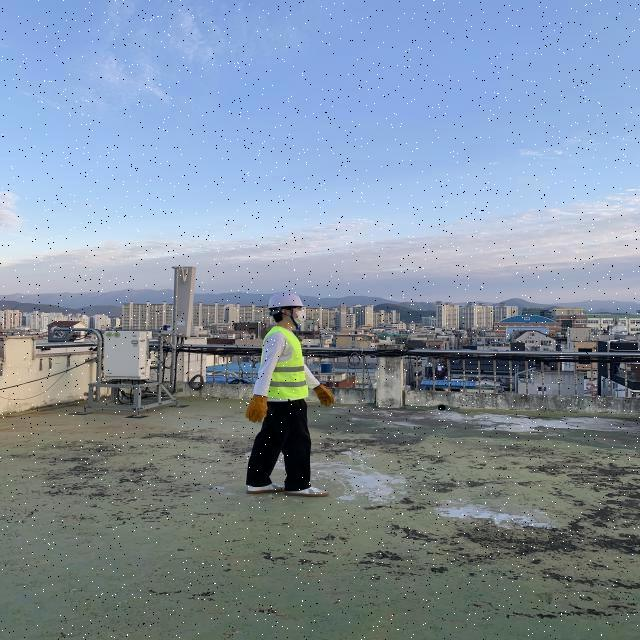Hard_hat: (266, 290, 308, 311)
Person: (235, 293, 330, 501)
Vest: (267, 322, 314, 401)
